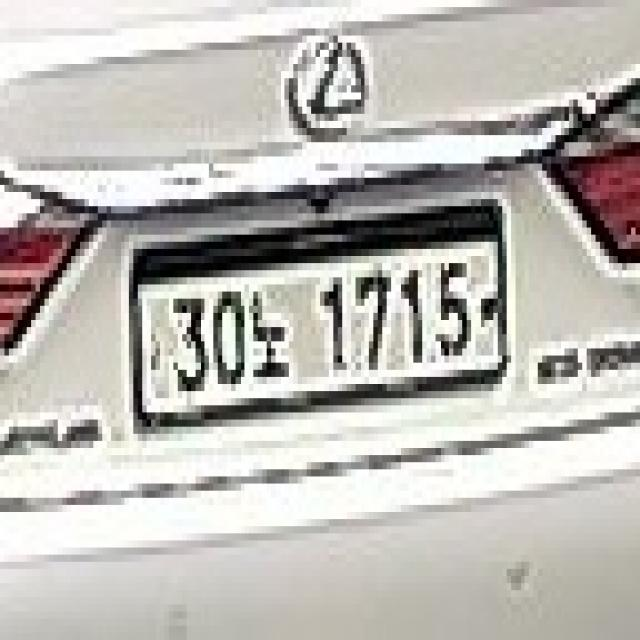0: (213, 292, 244, 391)
1: (320, 270, 347, 377), (400, 263, 427, 363)
3: (169, 292, 209, 398)
5: (436, 256, 471, 363)
7: (356, 270, 391, 377)
license_plate: (133, 199, 511, 427)
no: (249, 284, 293, 384)
